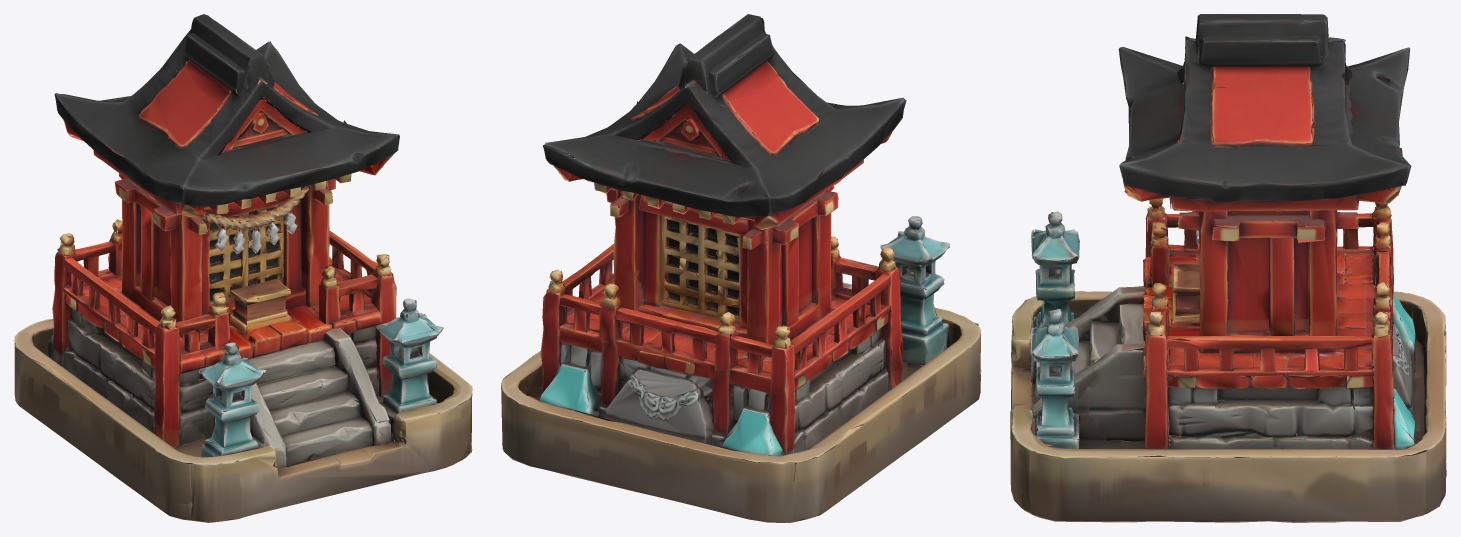
File: Shrine_town.glb
3 views of the same model, side by side, from view 1: azimuth 30°, elevation 25°; view 2: azimuth 150°, elevation 25°; view 3: azimuth 270°, elevation 25° (orthographic). The views are drawn at different scales.
Parts seen in each view (by area): view 1: Shrine; view 2: Shrine; view 3: Shrine.
Part boxes in pixels (x1=…): Shrine: x1=14, y1=14, x2=472, y2=522; Shrine: x1=501, y1=14, x2=981, y2=522; Shrine: x1=1010, y1=14, x2=1446, y2=522.
Size of the model in its own units: 1.69 by 2 by 1.87.
1 material, 1 textured.
